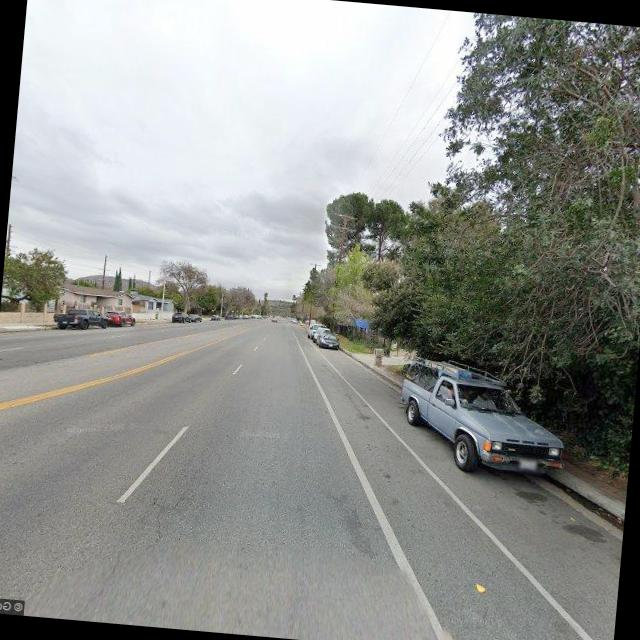pothole: (148, 487, 192, 550)
